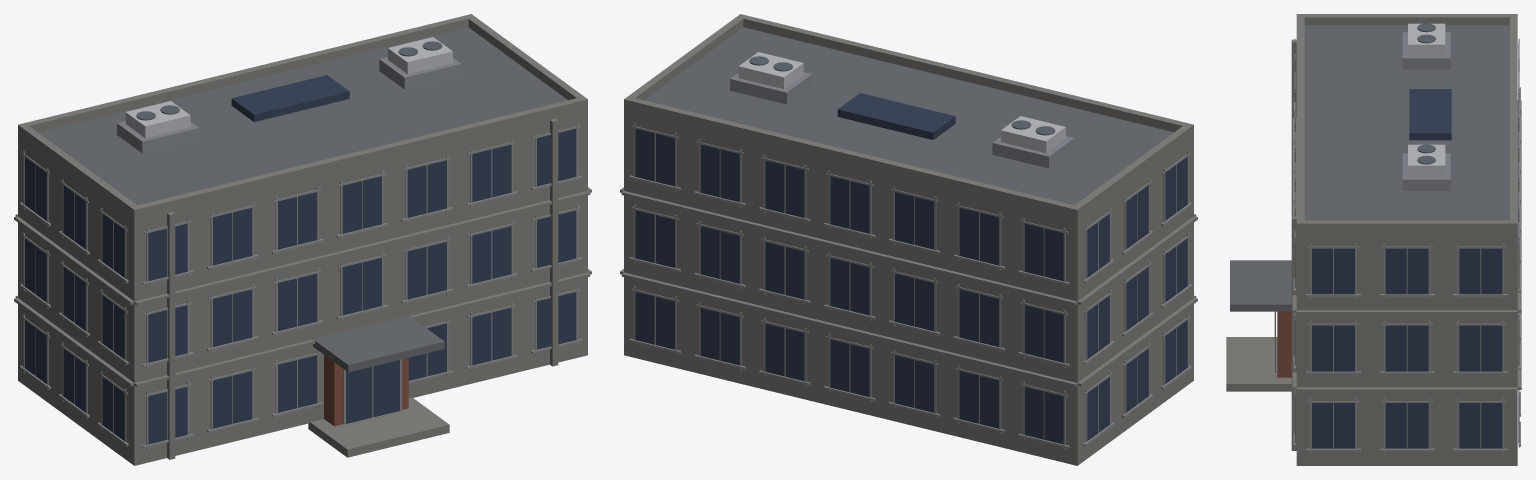
The model's file is civic_office_lvl1.glb.
3 renders of one model, left to right at view 1: azimuth 30°, elevation 25°; view 2: azimuth 150°, elevation 25°; view 3: azimuth 270°, elevation 25°, orthographic. The views are drawn at different scales.
Parts seen in each view (by area): view 1: civic_office; view 2: civic_office; view 3: civic_office.
Boxes of the visible parts, x1,y1,x2,y2 form: civic_office: (14, 14, 591, 465); civic_office: (620, 14, 1197, 465); civic_office: (1226, 14, 1521, 465).
Bounding box in the file's own units: 1 × 0.5976 × 0.5861.
